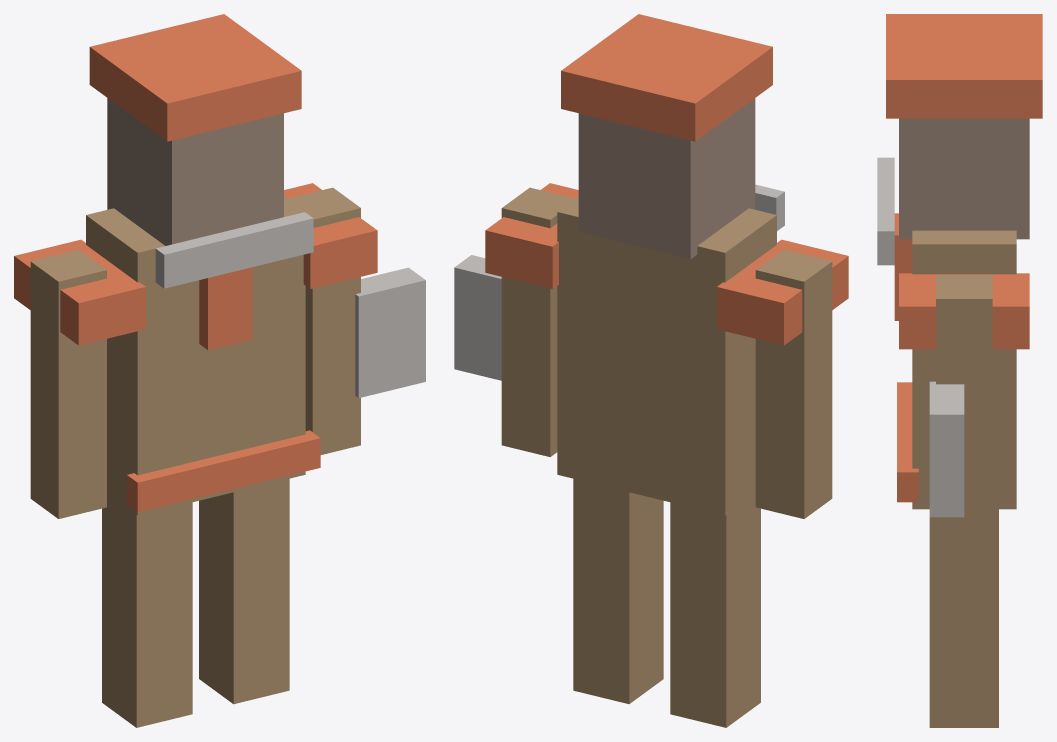
The model's file is 01_dax_runeclasp_pilgrim_at_wind.glb.
The picture shows the model from 3 angles, left to right: view 1: azimuth 30°, elevation 25°; view 2: azimuth 150°, elevation 25°; view 3: azimuth 270°, elevation 25°; orthographic projection.
Parts seen in each view (by area): view 1: Dax Runeclasp, Pilgrim at Wind; view 2: Dax Runeclasp, Pilgrim at Wind; view 3: Dax Runeclasp, Pilgrim at Wind.
Boxes of the visible parts, left/top/right/bottom form: Dax Runeclasp, Pilgrim at Wind: left=14, top=14, right=425, bottom=727; Dax Runeclasp, Pilgrim at Wind: left=454, top=14, right=848, bottom=727; Dax Runeclasp, Pilgrim at Wind: left=877, top=14, right=1042, bottom=727.
Size of the model in its own units: 0.9872 by 1.65 by 0.3847.
